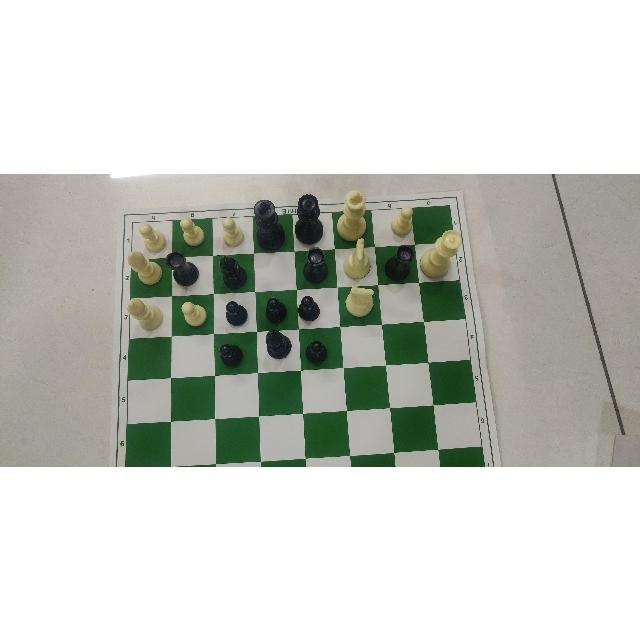black-bishop: (260, 325, 296, 362), (213, 253, 249, 287)
black-king: (253, 196, 289, 249)
black-pawn: (216, 342, 245, 368), (305, 337, 331, 366), (297, 294, 320, 325), (224, 299, 250, 324), (267, 296, 290, 324)
black-queen: (293, 193, 324, 240)
black-rook: (165, 248, 201, 286), (384, 242, 419, 278), (301, 247, 331, 283)
white-bishop: (124, 247, 164, 287), (123, 296, 163, 331)
white-king: (336, 187, 369, 237)
white-knight: (342, 283, 378, 316), (345, 239, 373, 279)
white-pawn: (175, 297, 211, 333), (136, 220, 166, 251), (219, 214, 245, 249), (390, 204, 417, 236), (177, 215, 205, 245)
white-queen: (420, 227, 463, 279)
